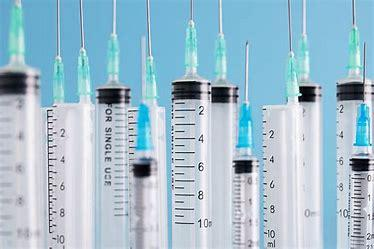Syringe: (168, 5, 224, 249), (34, 5, 74, 249), (90, 7, 128, 249), (231, 37, 264, 249), (276, 9, 304, 248), (346, 52, 374, 242)
